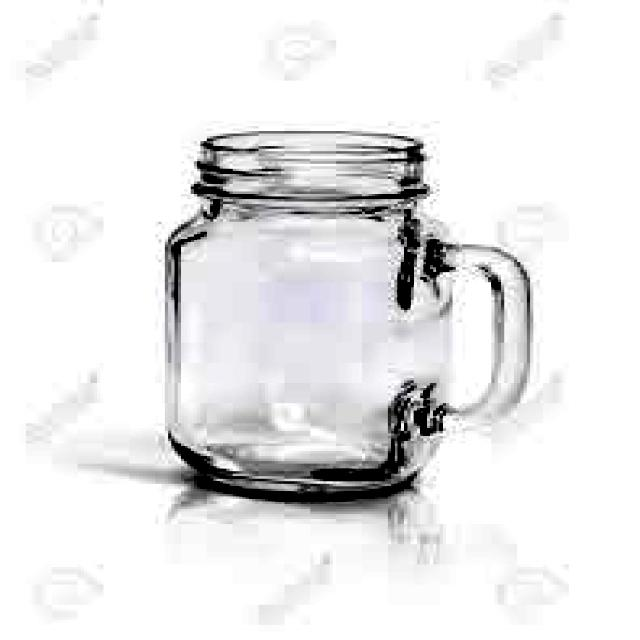Glass: (157, 125, 483, 500)
